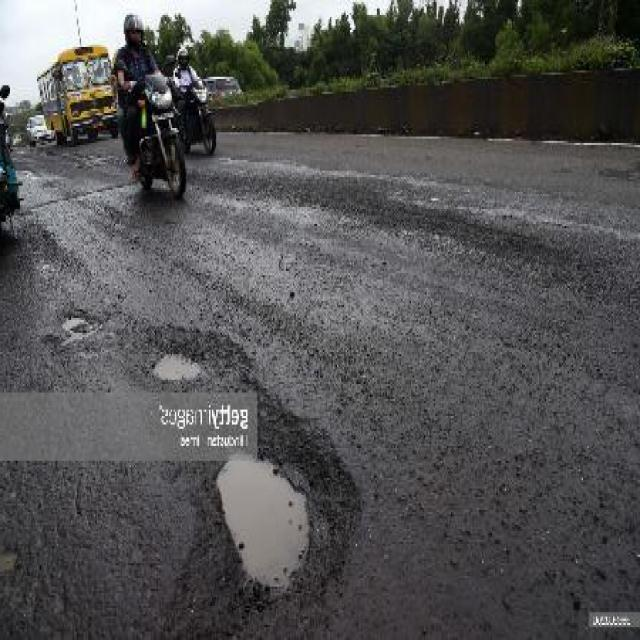pothole: (169, 409, 364, 638), (132, 318, 260, 390), (52, 305, 106, 352)
